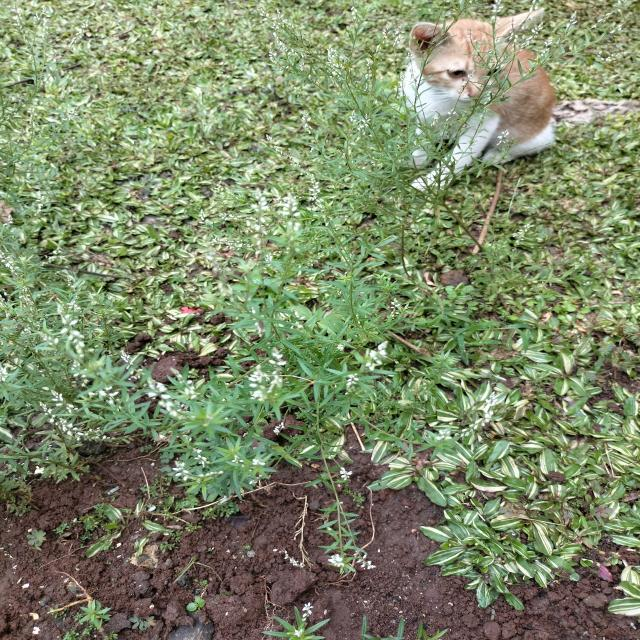akar wangi: (274, 25, 479, 215), (0, 321, 162, 440), (0, 0, 75, 216), (295, 162, 388, 312), (247, 310, 363, 424), (0, 224, 123, 322), (162, 405, 277, 504), (297, 441, 379, 576), (259, 600, 331, 640), (76, 598, 114, 629)
bayi: (489, 608, 496, 621)
buah daun: (127, 611, 158, 632), (26, 528, 48, 548), (522, 260, 544, 273), (597, 342, 616, 356)
clover: (158, 452, 176, 466)
lumut besar: (0, 475, 38, 517), (160, 523, 203, 554), (78, 502, 112, 532), (137, 471, 167, 498), (202, 501, 241, 520), (380, 398, 423, 412), (342, 482, 366, 503), (53, 520, 71, 535), (194, 576, 212, 589)
masker: (558, 300, 578, 313), (445, 291, 460, 301), (465, 304, 479, 313), (578, 306, 592, 314), (444, 284, 456, 293), (552, 305, 563, 314), (453, 303, 465, 311), (464, 300, 479, 306)
rambat atas: (450, 319, 531, 363)
